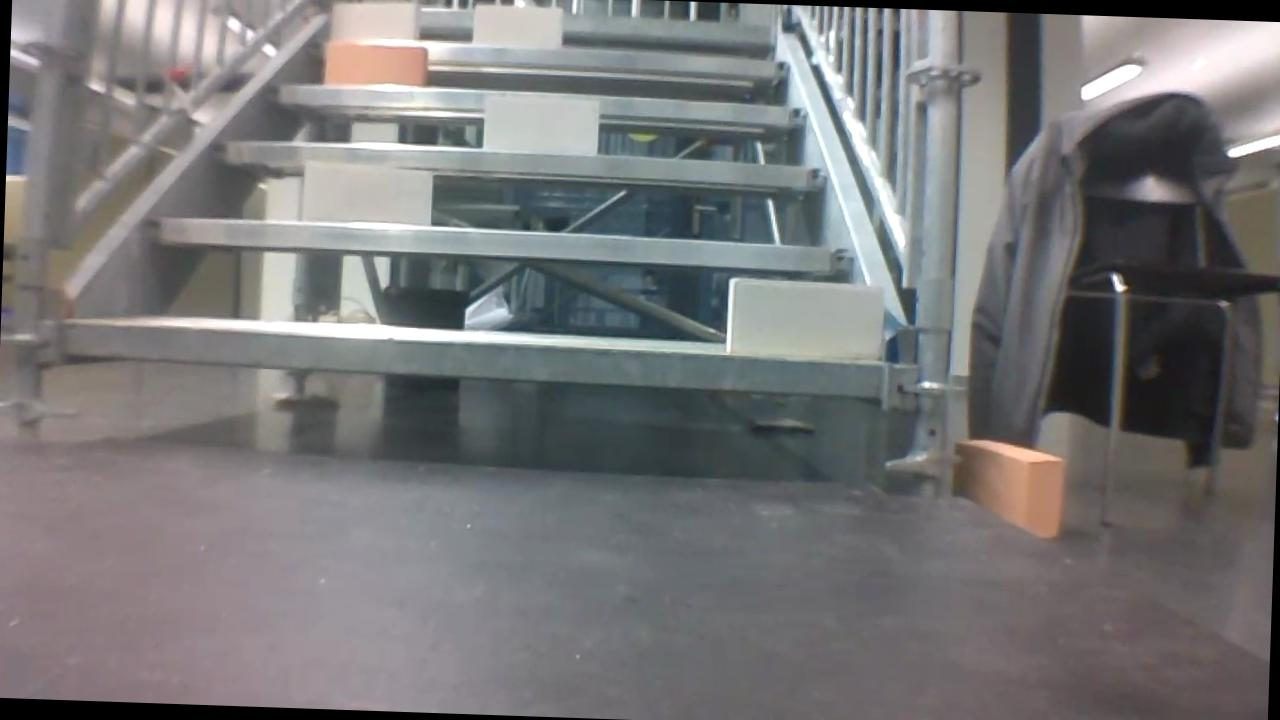brick: (727, 280, 883, 358), (303, 162, 432, 226), (485, 95, 599, 152), (327, 43, 425, 87), (472, 5, 561, 46), (333, 1, 418, 39)
edge: (62, 322, 881, 394), (147, 215, 860, 271), (213, 140, 824, 186), (270, 83, 807, 128), (314, 36, 791, 78), (335, 3, 774, 42)
